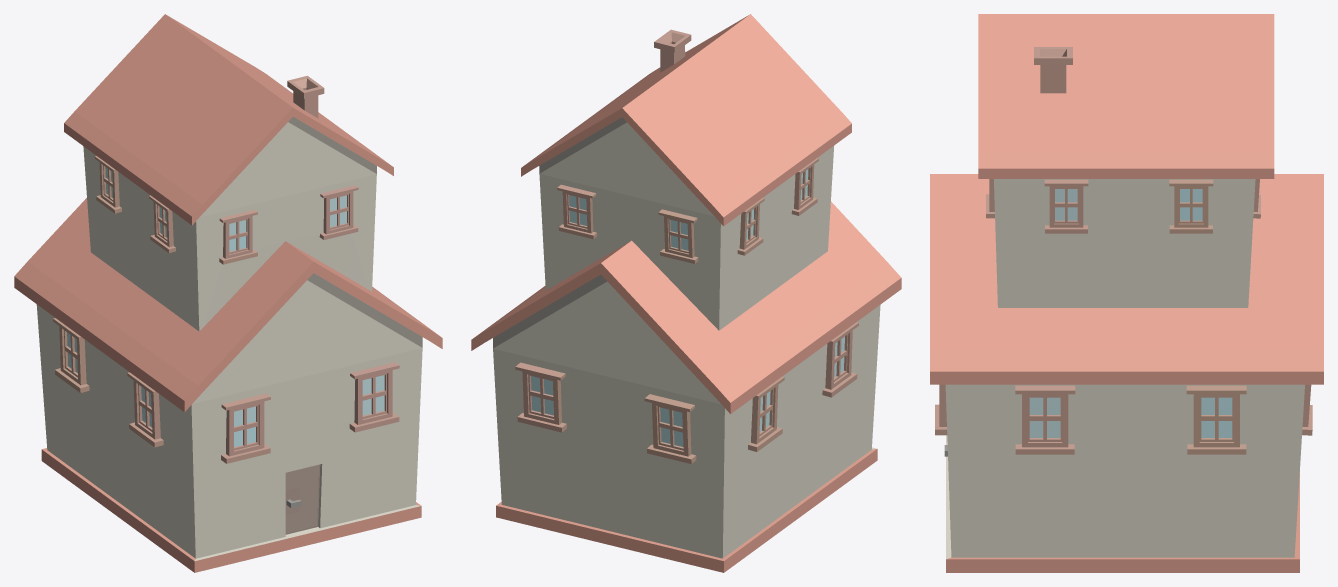
The model's file is house-q-3.glb.
The picture shows the model from 3 angles, left to right: view 1: azimuth 30°, elevation 25°; view 2: azimuth 150°, elevation 25°; view 3: azimuth 270°, elevation 25°; orthographic projection. The views are drawn at different scales.
Visible parts, largest first — view 1: House3; view 2: House3; view 3: House3.
Part boxes in pixels (x1,y1,x2,y2): House3: [14, 14, 442, 572]; House3: [471, 14, 901, 572]; House3: [930, 14, 1323, 572].
Bounding box in the file's own units: 0.8745 × 1.38 × 0.9999.
1 material, 1 textured.
